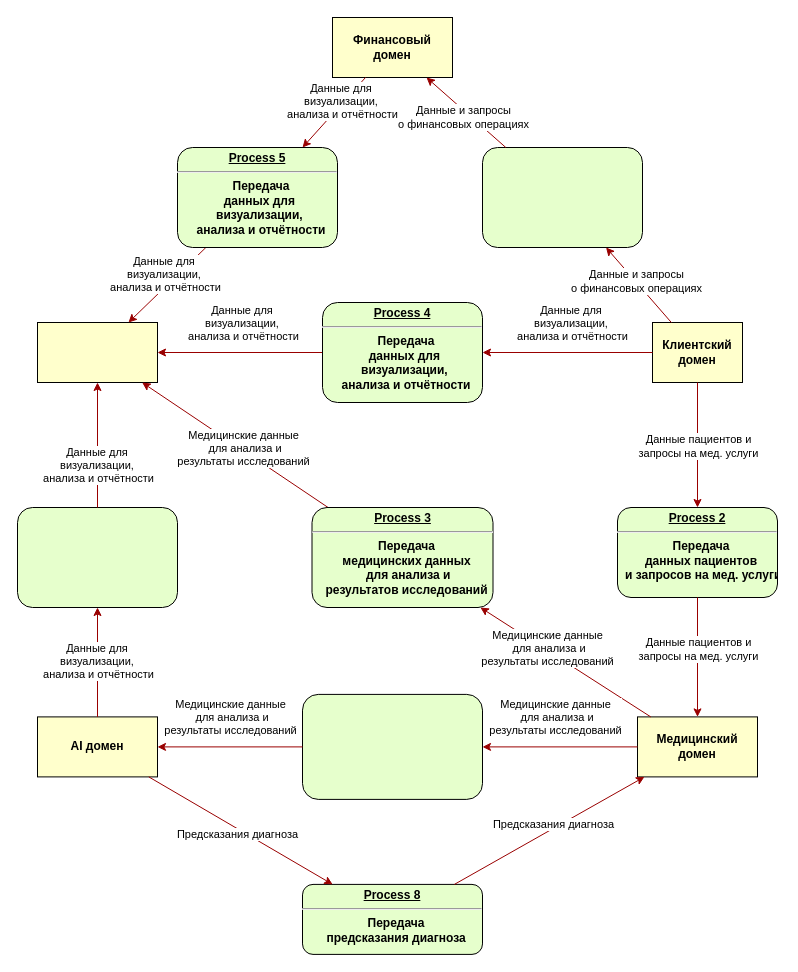
Some shapes in this 798 by 972 pixel diagram are drawn without their labels. Each missing label, with the box of its shape:
BI домен: (36, 322, 158, 382)
Process 1 Передача данных и запросы о финансовых операциях: (482, 146, 642, 248)
Process 6 Передача медицинских данных для анализа и результатов исследований: (302, 693, 482, 799)
Process 7 Передача данных для визуализации, анализа и отчётности: (16, 506, 178, 608)
